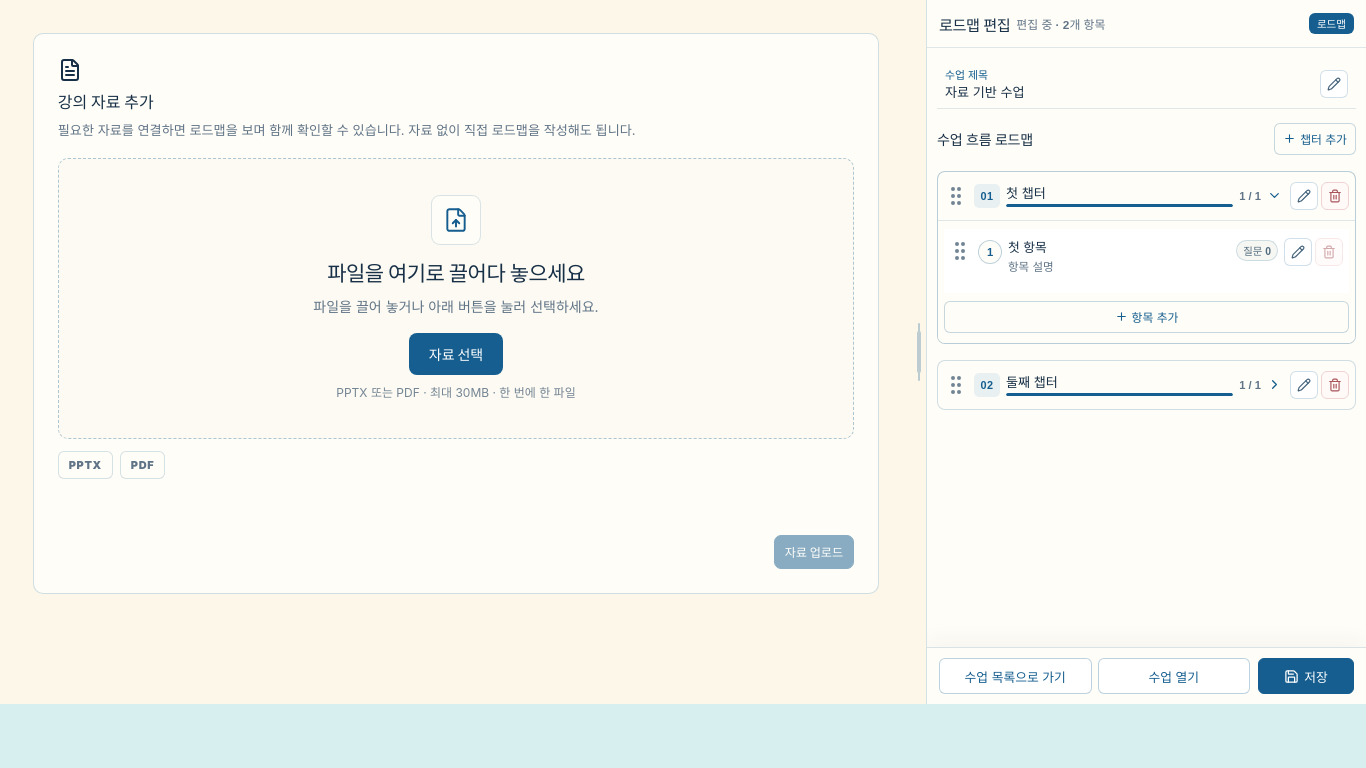
Test: CourseFlowEditorPage › 챕터와 항목 추가, 드래그 핸들 및 고정 저장 영역을 유지한다
Expected: the heading "로드맵 편집" is shown, [939,12,1010,34]
Click the button "챕터 추가".
click(1315, 139)  # box [1274,123,1356,155]
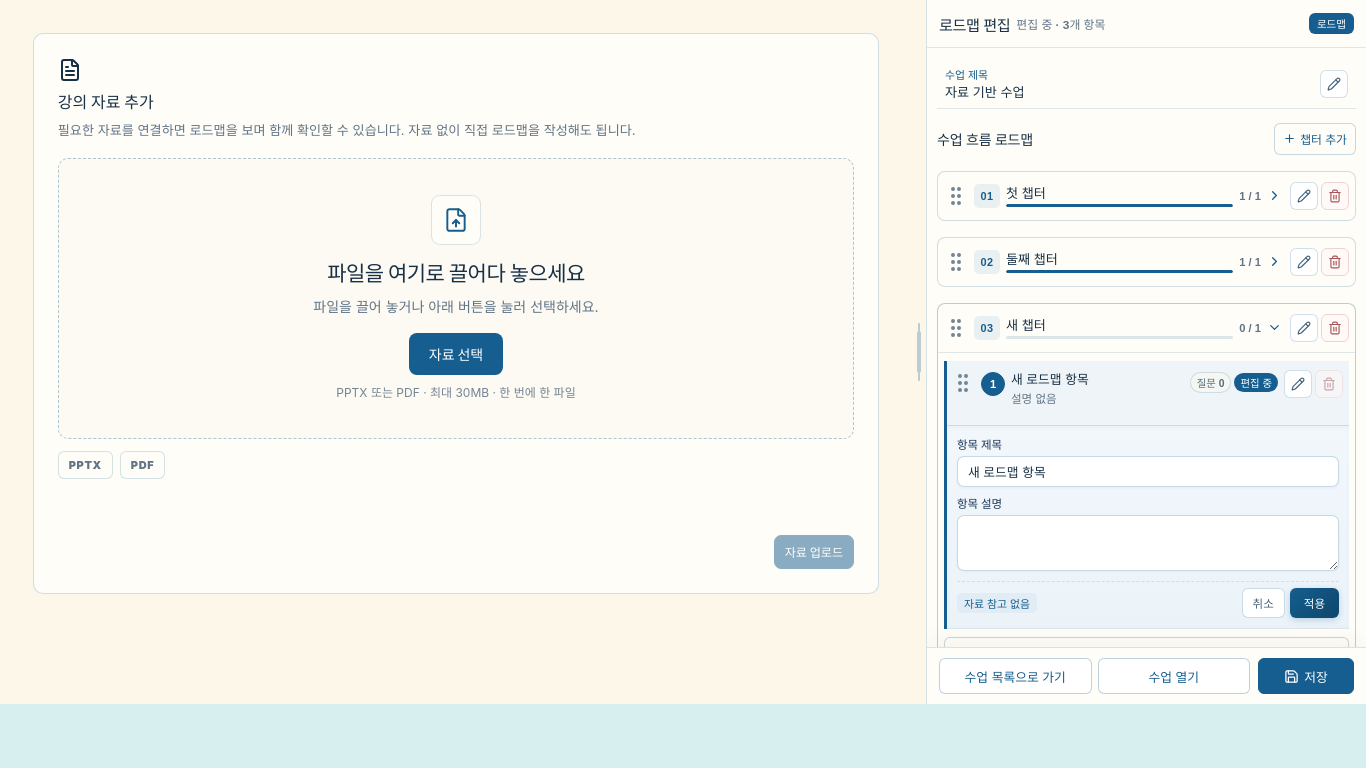
Now the field showing "새 로드맵 항목" is shown, box [957,456,1339,487]
Now the button "적용" is enabled, box [1290,588,1339,618]
